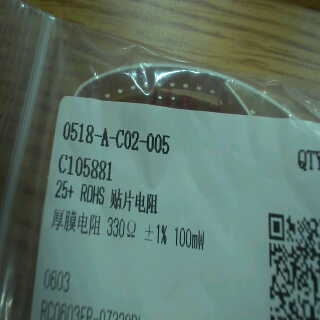330R: (103, 215, 139, 242)
